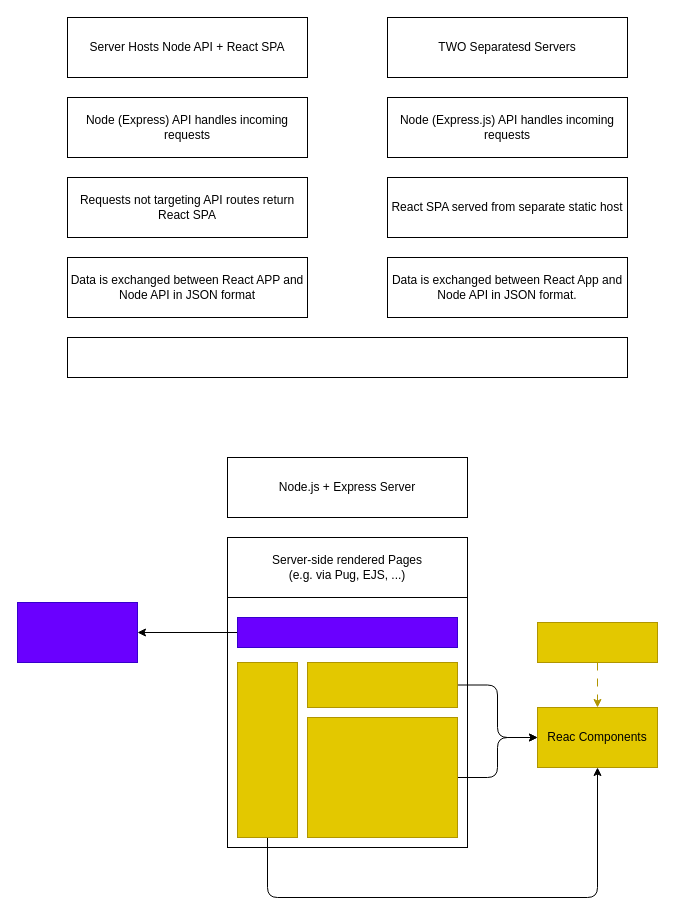
Some shapes in this 675 by 923 pixel diagram are drawn without their labels. The shapes that lost their labels are listed below. From the top down, each one's centre as x and y in pixels, then its label:
(x=347, y=357): both cases have: Logically Separated Apps (SPA + API)
(x=77, y=632): Rendered HTML on the server via HTML templating language
(x=597, y=642): "Widget"-like
